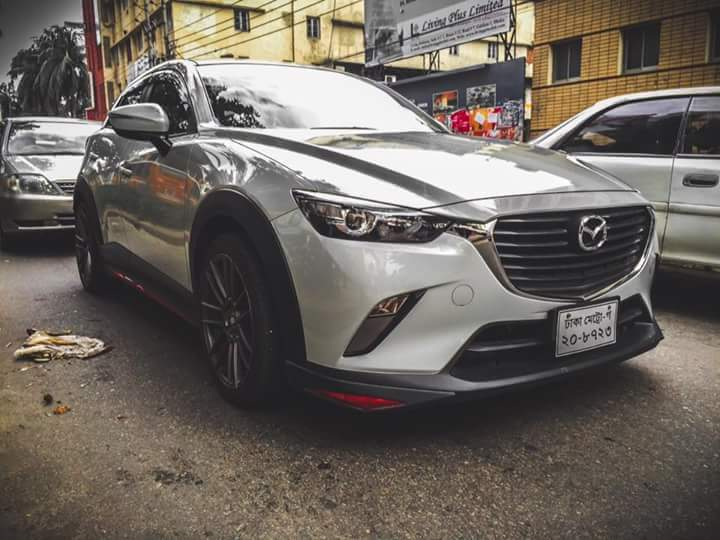registration_plate: (555, 299, 619, 357)
